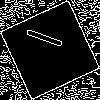I: (25, 25, 73, 54)
